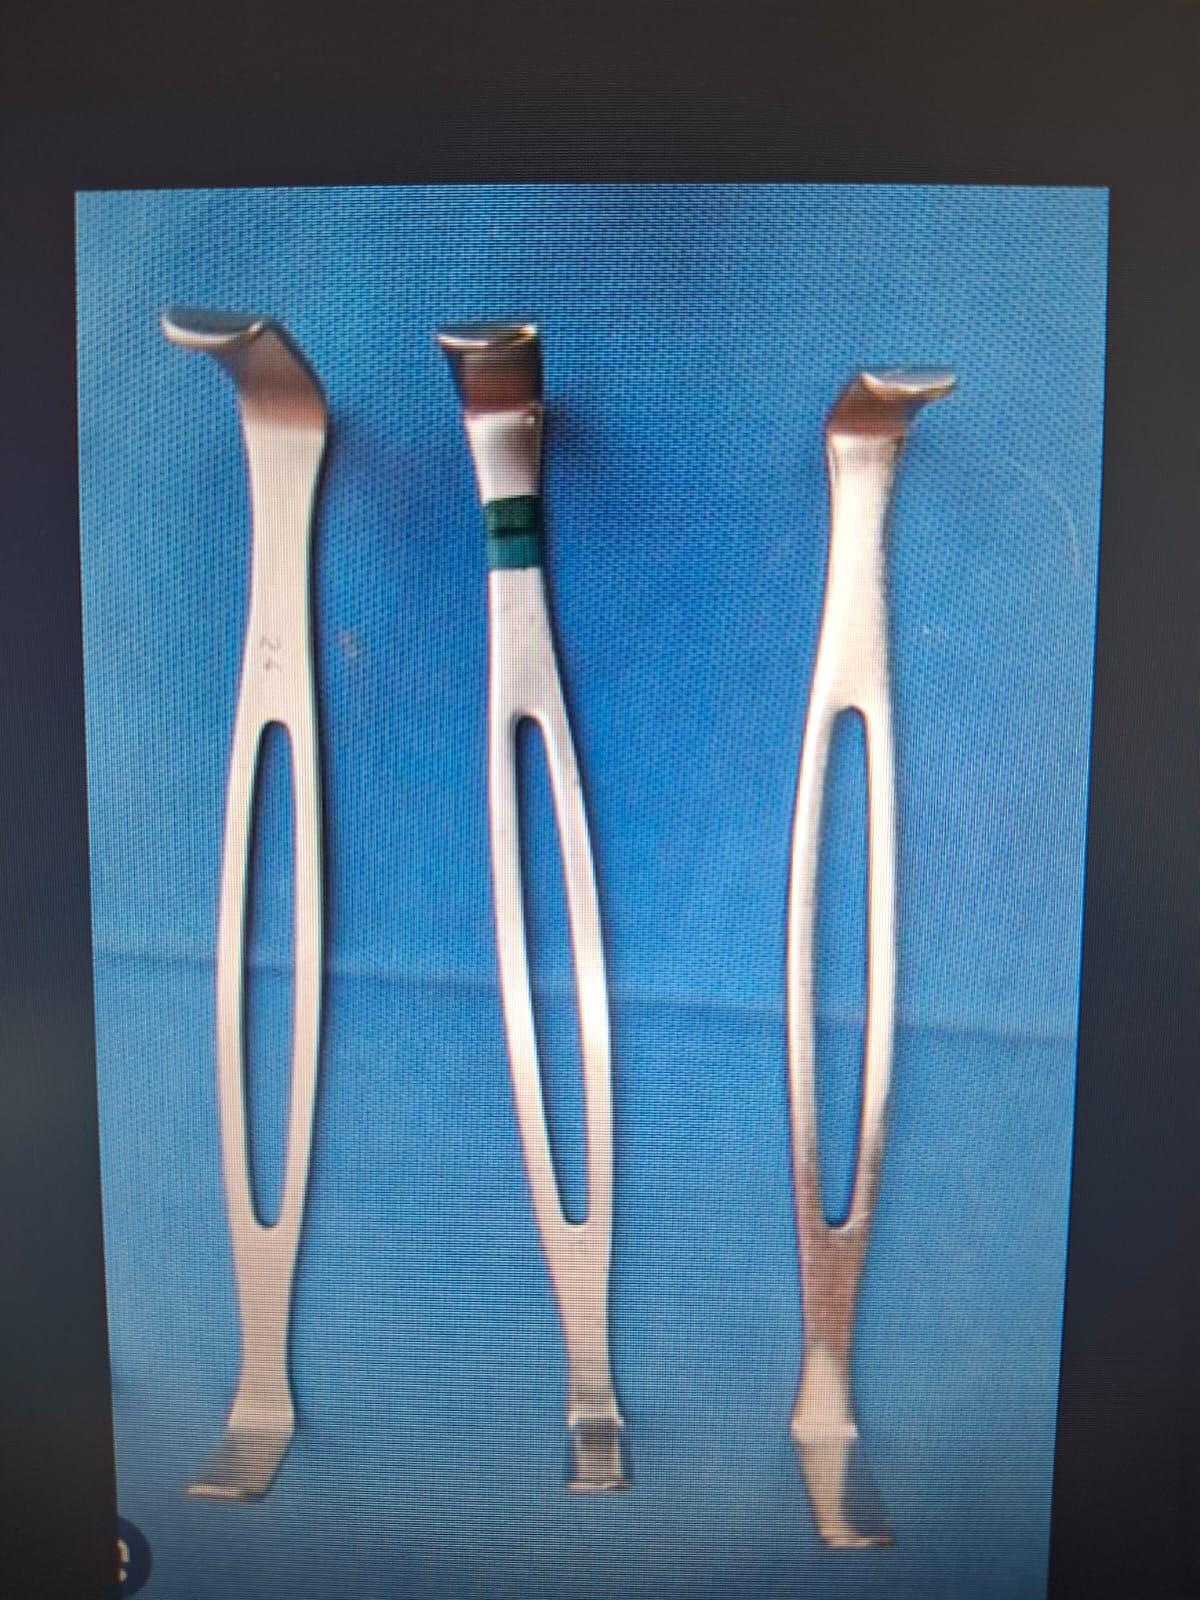Army Navy Retractor: (145, 295, 405, 1515), (748, 345, 988, 1588)
